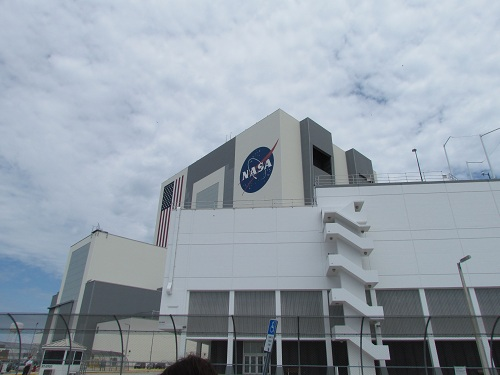NASA: (233, 137, 284, 198)
